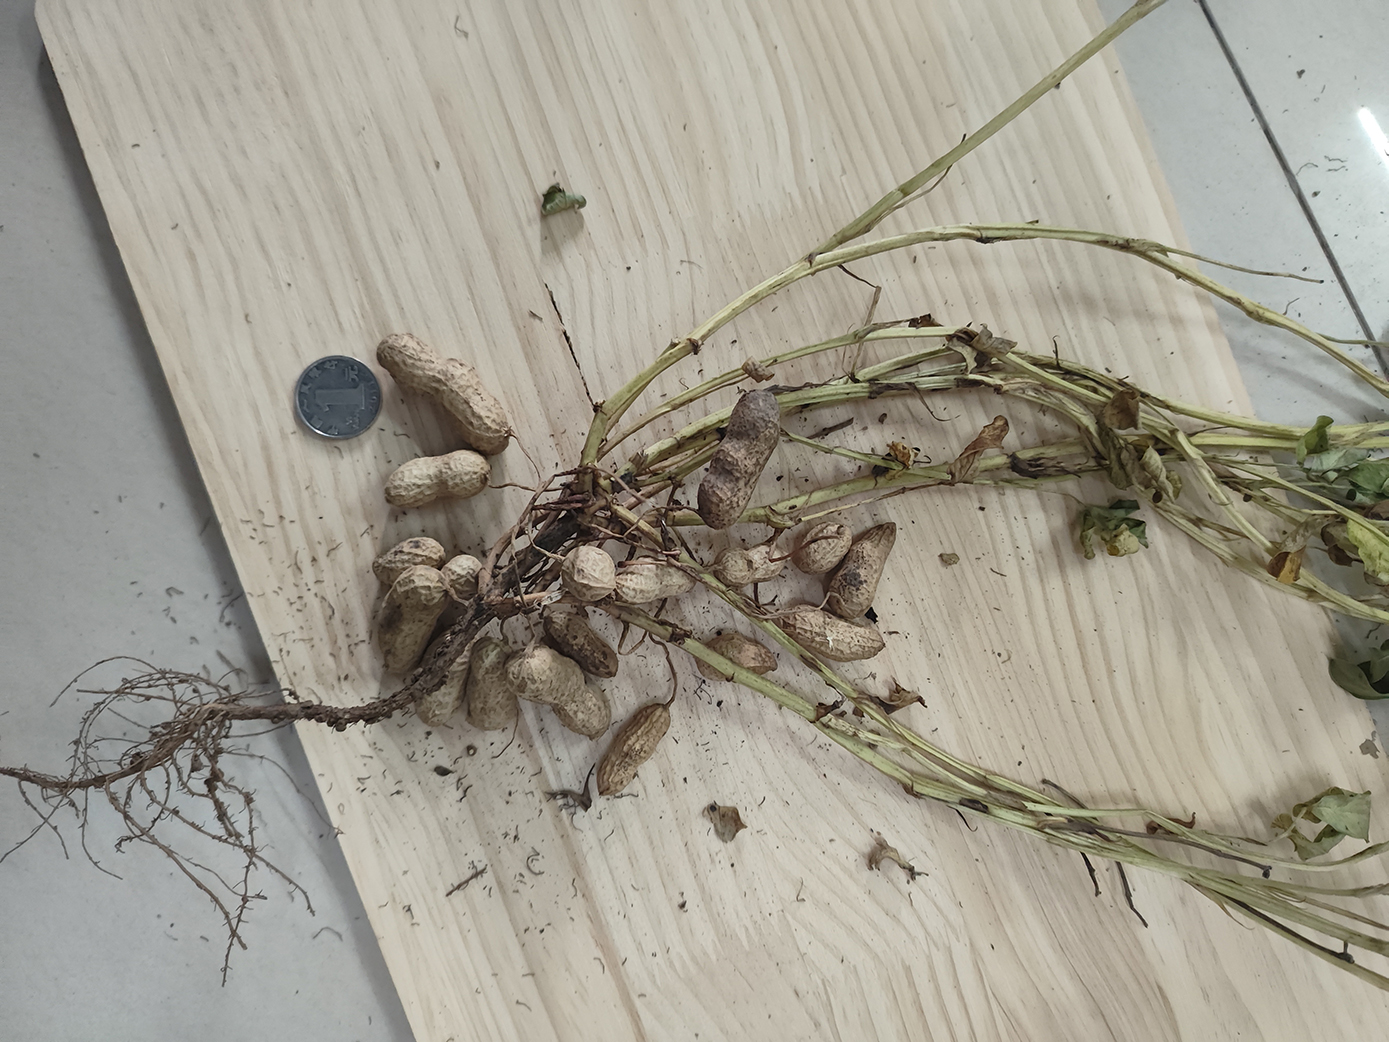h: (378, 333, 512, 454), (505, 645, 609, 738), (597, 704, 678, 797), (377, 565, 443, 675), (826, 523, 896, 618), (383, 450, 491, 508), (783, 604, 887, 661), (410, 630, 467, 727), (543, 614, 620, 680), (465, 637, 517, 730), (370, 536, 447, 586), (616, 556, 699, 600), (696, 636, 778, 679), (560, 547, 618, 601), (796, 521, 849, 574), (717, 546, 786, 587), (440, 555, 486, 604)
l: (699, 389, 778, 531)
